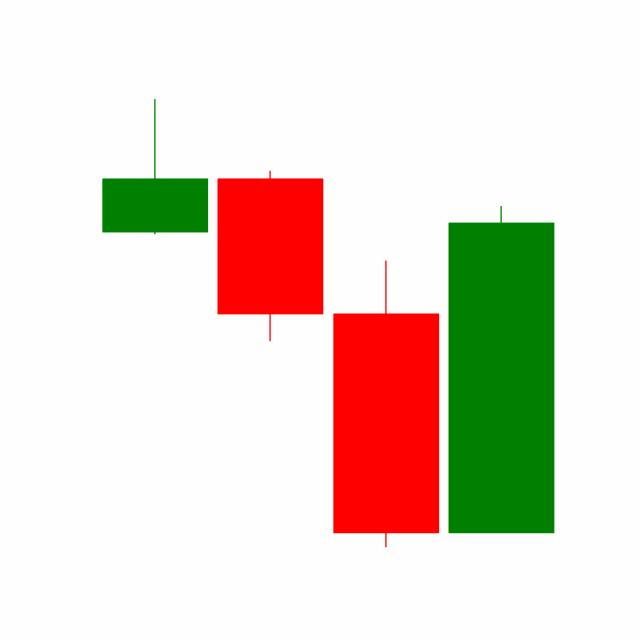Marubozu: (443, 203, 559, 536)
